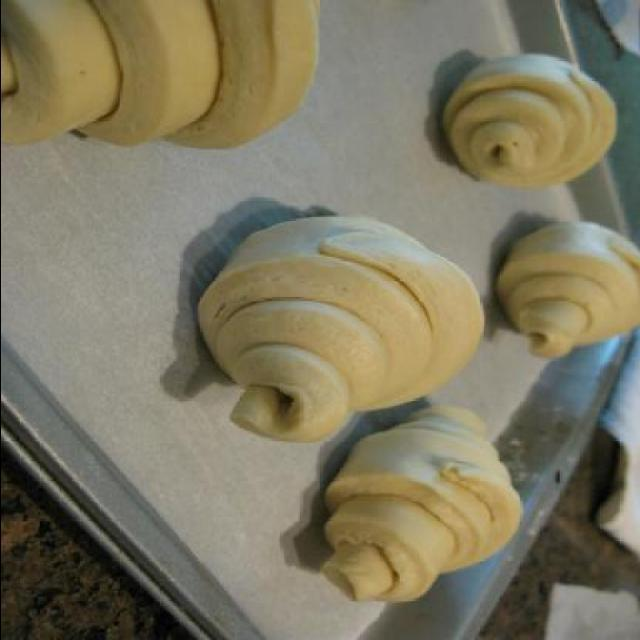Croissant: (170, 206, 482, 448)
